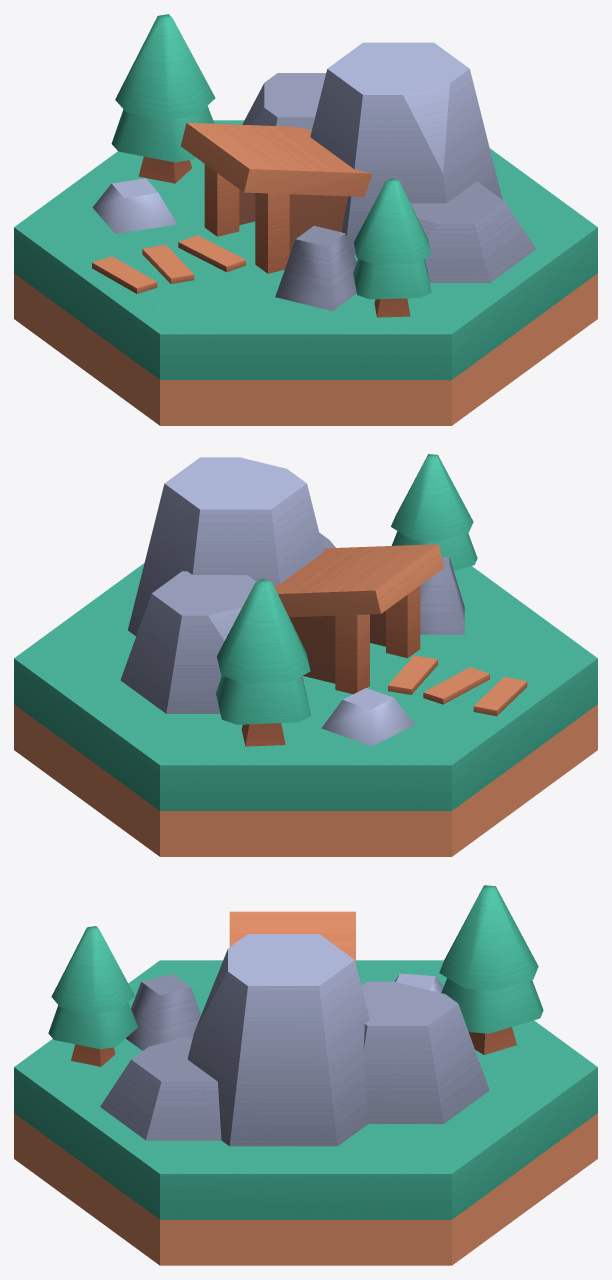
Rendered from building-mine.glb.
3 renders of one model, top to bottom at view 1: azimuth 30°, elevation 25°; view 2: azimuth 150°, elevation 25°; view 3: azimuth 270°, elevation 25°, orthographic.
Visible parts, largest first — view 1: building-mine; view 2: building-mine; view 3: building-mine.
Boxes of the visible parts, left/top/right/bottom form: building-mine: left=14, top=14, right=597, bottom=425; building-mine: left=14, top=454, right=597, bottom=856; building-mine: left=14, top=885, right=597, bottom=1265.
Bounding box in the file's own units: 1 × 0.5382 × 1.15.
Materials: 1 (1 with a texture image).
